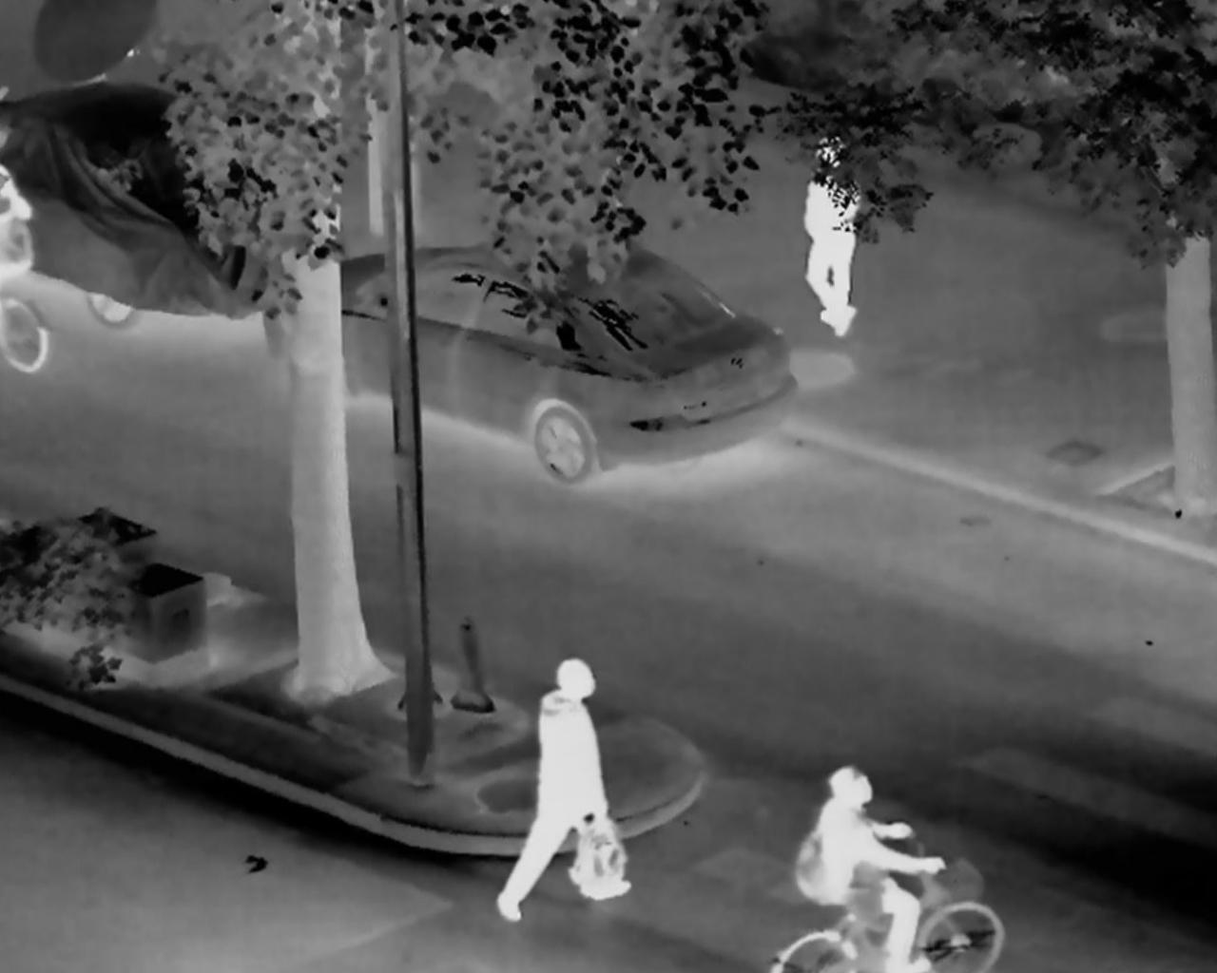person: (491, 658, 633, 918), (796, 763, 947, 973), (799, 134, 863, 340)
